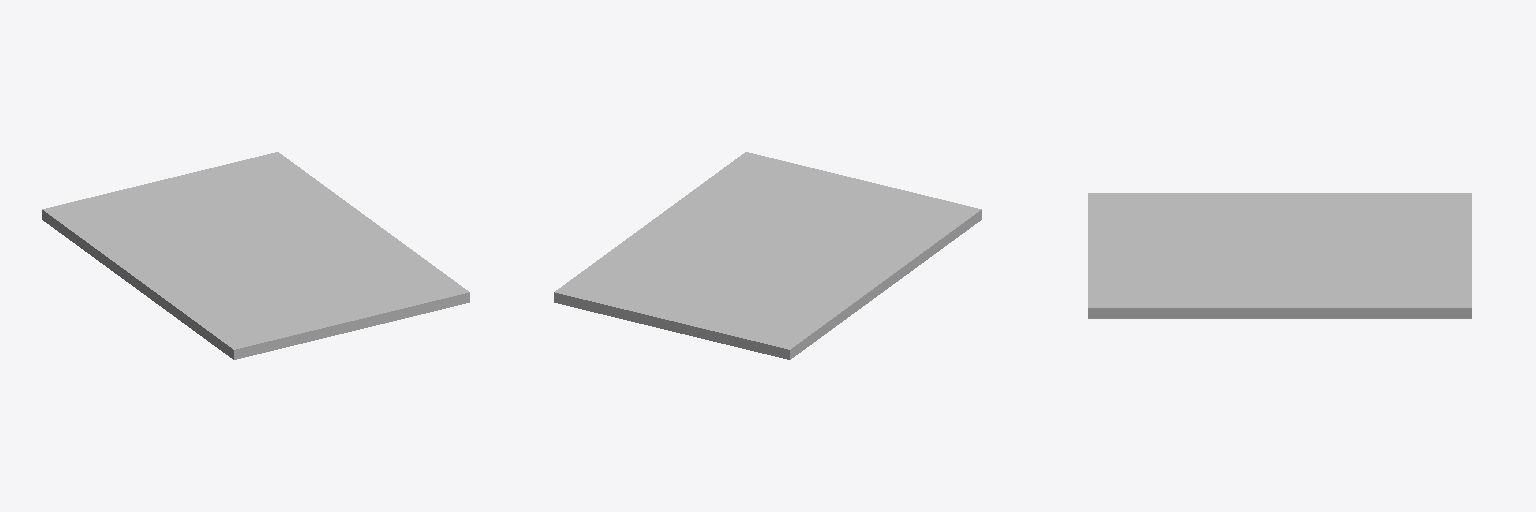
Rendered from arena.obj.
The picture shows the model from 3 angles: view 1: azimuth 30°, elevation 25°; view 2: azimuth 150°, elevation 25°; view 3: azimuth 270°, elevation 25°; orthographic projection.
Visible parts, largest first — view 1: Cube_Cube.001; view 2: Cube_Cube.001; view 3: Cube_Cube.001.
Part boxes in pixels (x1,y1,x2,y2): Cube_Cube.001: (42, 152, 469, 359); Cube_Cube.001: (554, 152, 981, 359); Cube_Cube.001: (1088, 193, 1471, 318).
Bounding box in the file's own units: 47.86 × 2 × 67.43.